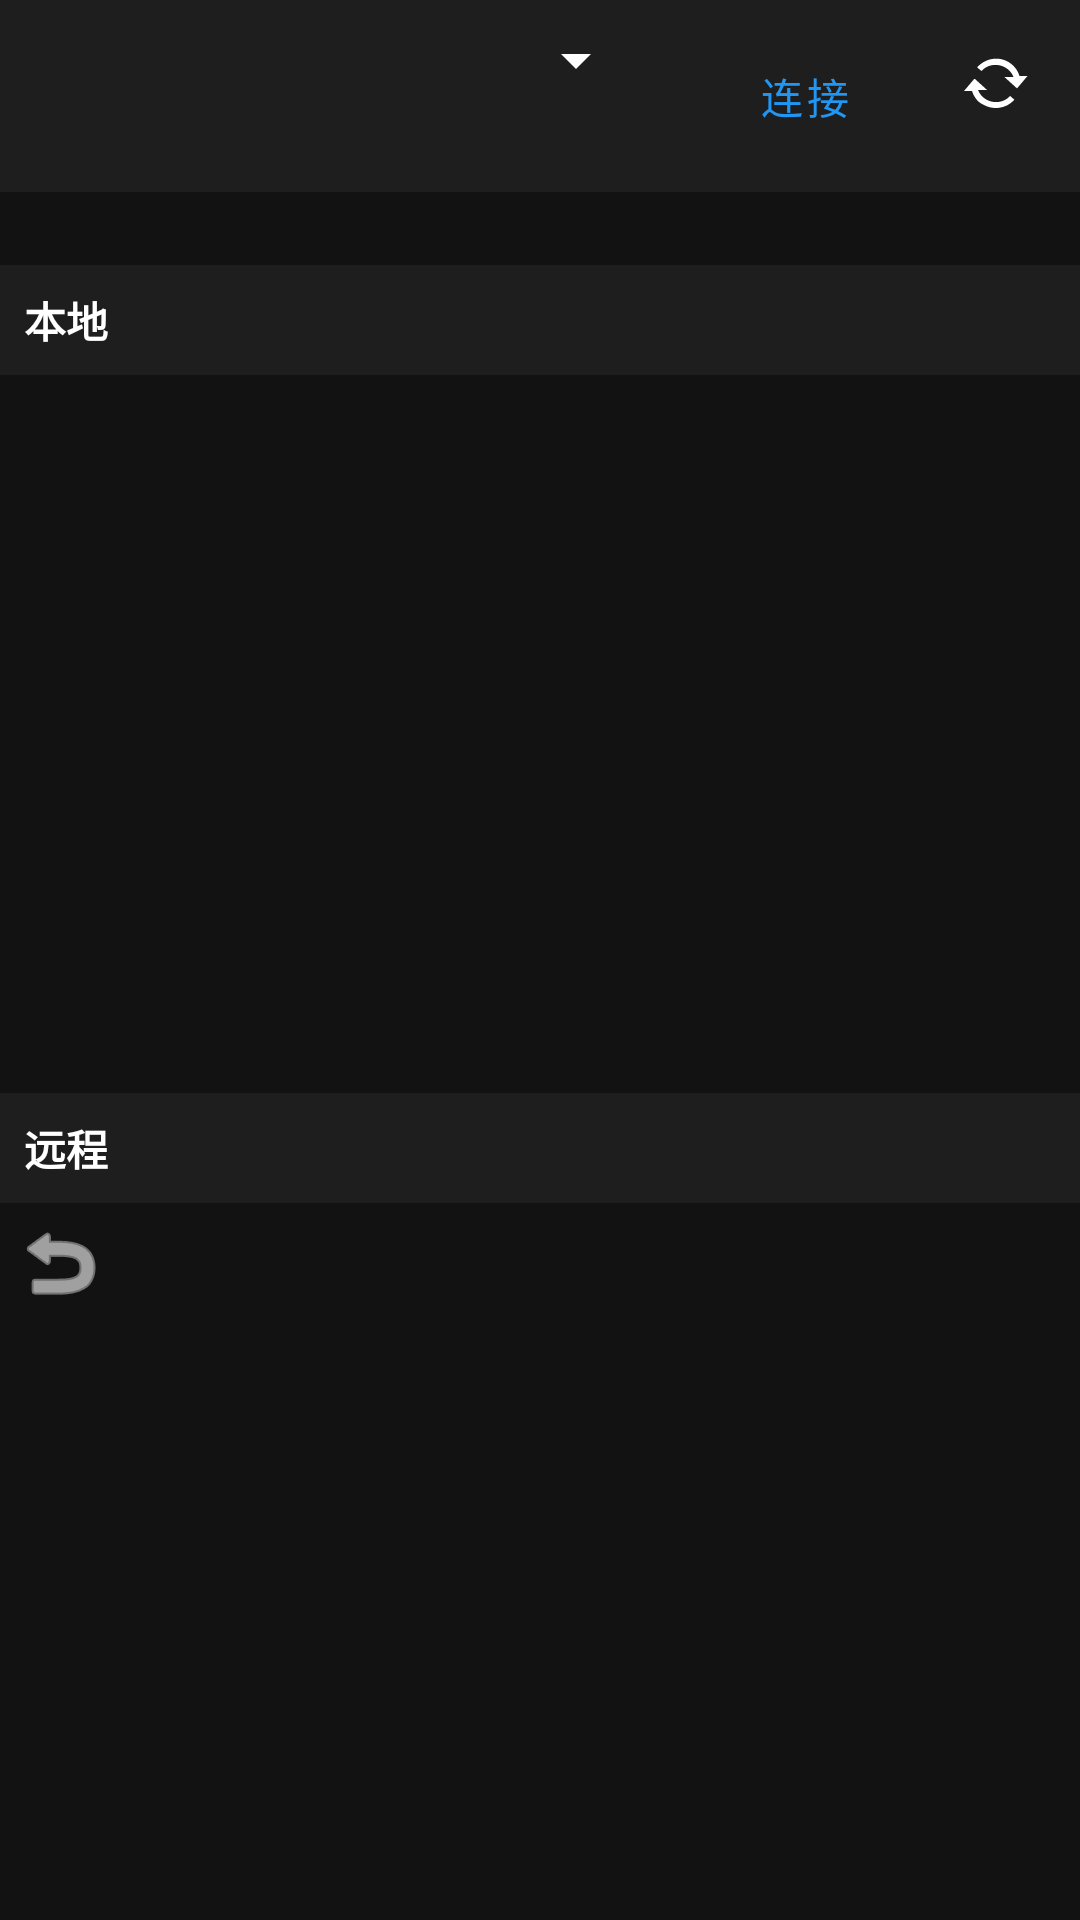

Point at icon controls on the screen. Image size 1080 × 1920, points as (x,y).
刷新: (996,83)
返回上级目录: (61,1263)
